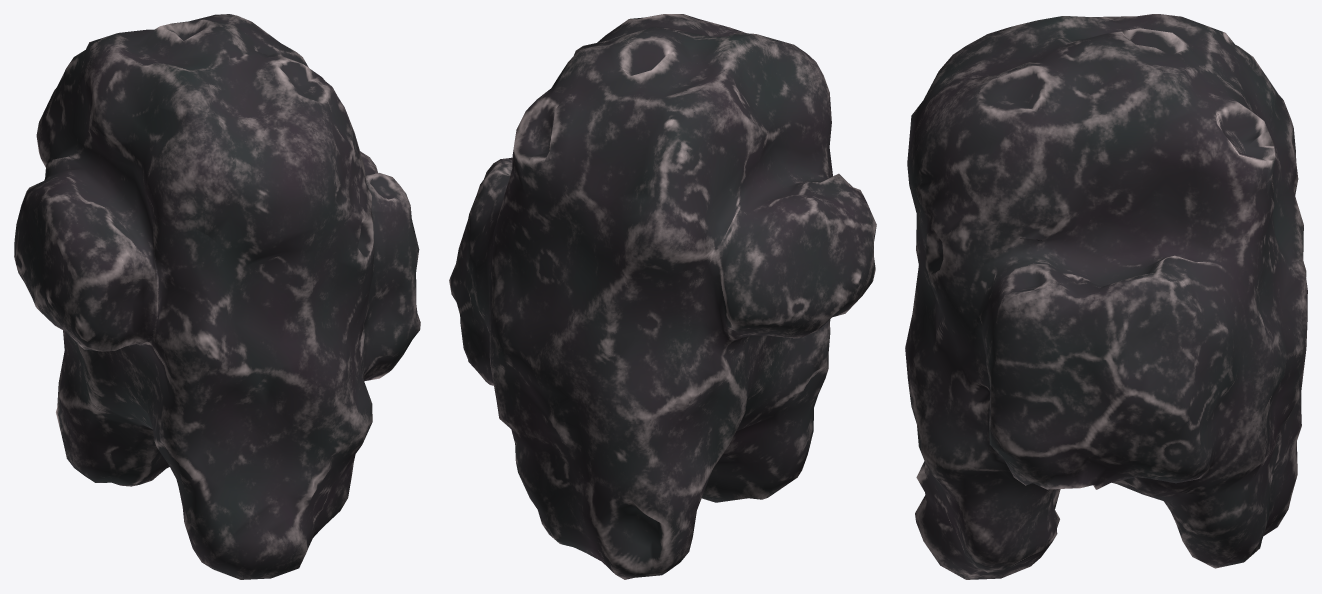
File: sus.glb
3 views of the same model, side by side, from view 1: azimuth 30°, elevation 25°; view 2: azimuth 150°, elevation 25°; view 3: azimuth 270°, elevation 25° (orthographic). The views are drawn at different scales.
Visible parts, largest first — view 1: sus_low_poly; view 2: sus_low_poly; view 3: sus_low_poly.
Part boxes in pixels (x1=…): sus_low_poly: x1=14, y1=14, x2=420, y2=579; sus_low_poly: x1=449, y1=14, x2=876, y2=579; sus_low_poly: x1=905, y1=14, x2=1307, y2=579.
Bounding box in the file's own units: 8.55 × 11.3 × 7.6.
Materials: 1 (1 with a texture image).
